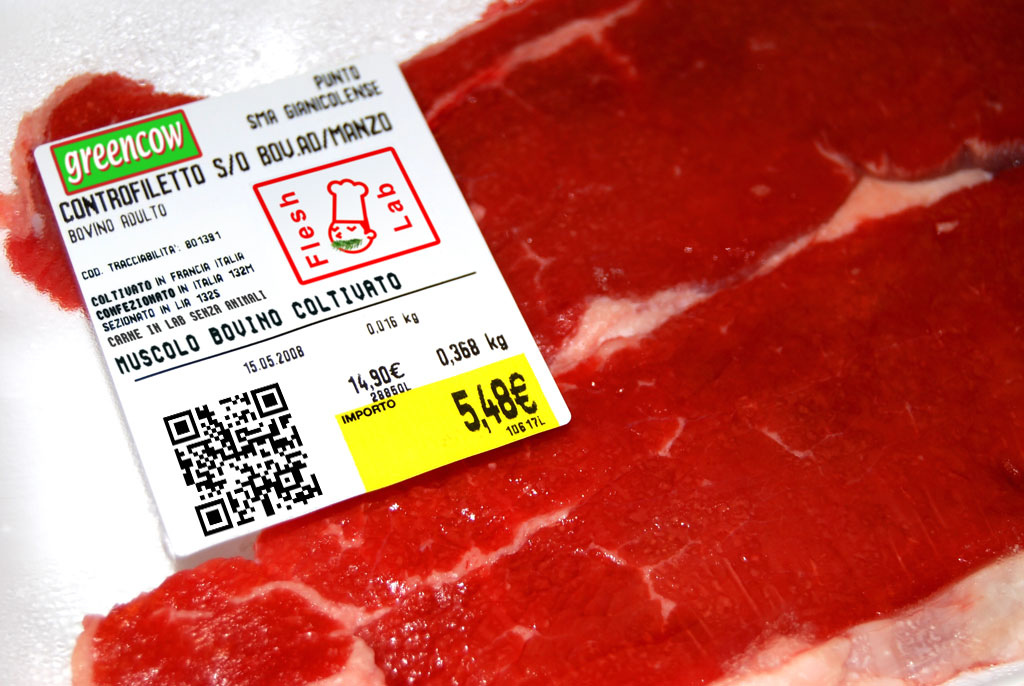QR-CODE: (162, 382, 323, 536)
